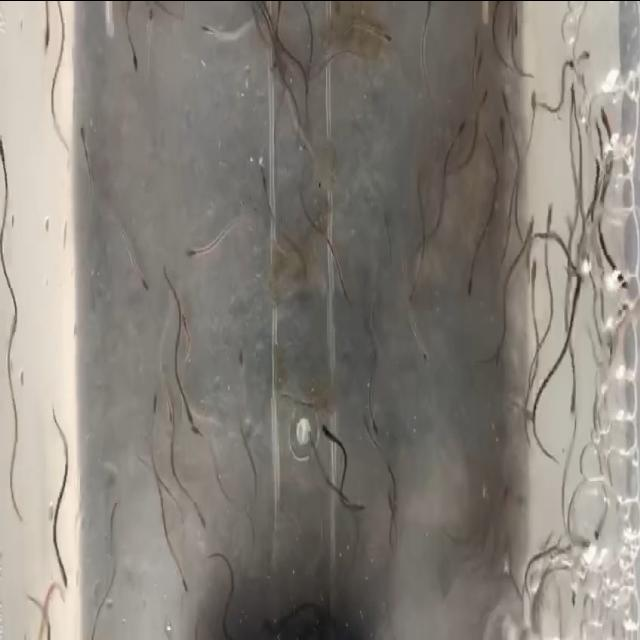active_glass_eel: (398, 260, 422, 314), (132, 250, 154, 304), (458, 264, 479, 312), (468, 72, 488, 116), (450, 101, 468, 149), (78, 120, 98, 158), (418, 326, 434, 372), (592, 94, 608, 140), (54, 552, 72, 590), (174, 552, 188, 598), (183, 230, 200, 266), (568, 379, 584, 416), (196, 8, 212, 44), (318, 412, 336, 444), (337, 272, 352, 310), (194, 506, 208, 544), (185, 401, 201, 434), (254, 154, 271, 184), (354, 400, 368, 436), (368, 403, 382, 434), (561, 48, 573, 84), (465, 20, 482, 45), (126, 45, 140, 75), (528, 79, 538, 121), (527, 251, 541, 281), (144, 3, 160, 29), (162, 386, 174, 420), (542, 191, 556, 220), (177, 298, 190, 329), (496, 110, 508, 142), (525, 211, 538, 240), (498, 81, 510, 111), (580, 39, 592, 66), (476, 51, 488, 67)
